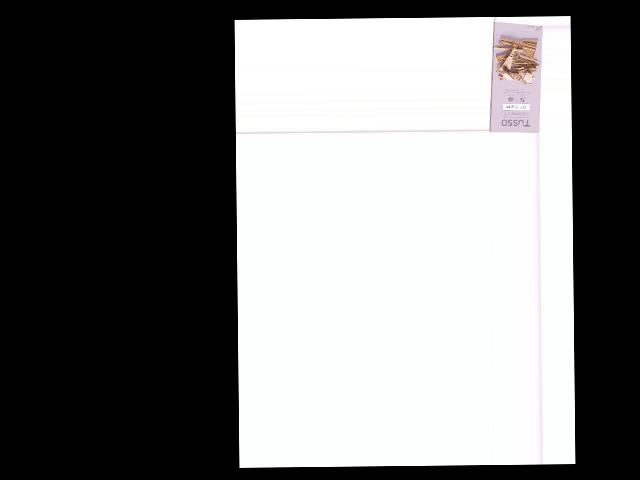chocolate: (491, 21, 540, 131)
